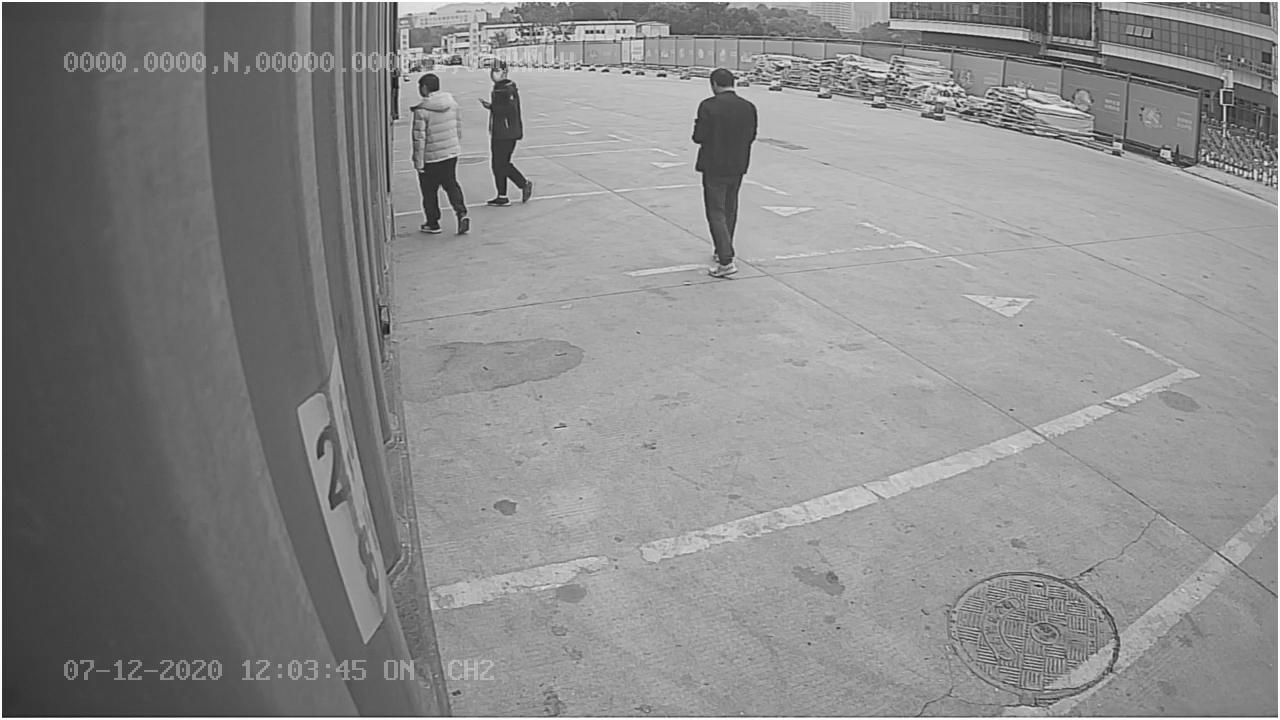person: (691, 65, 763, 280)
